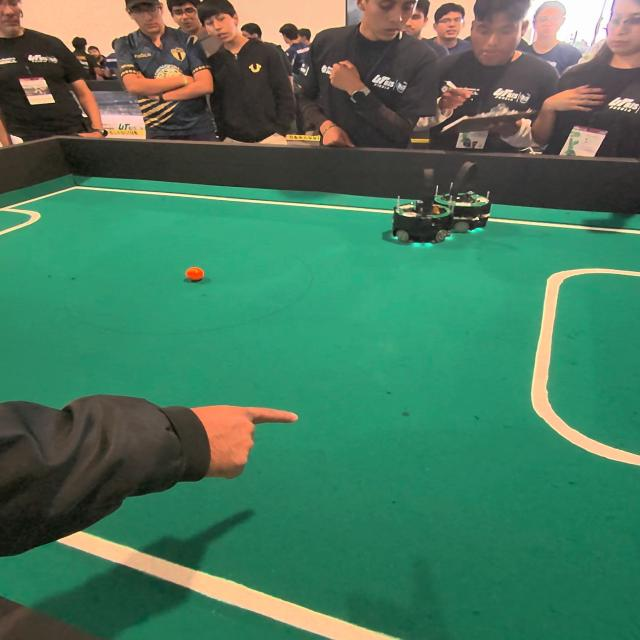Robot: (388, 169, 452, 252), (442, 158, 496, 238)
pelota: (178, 265, 212, 288)
